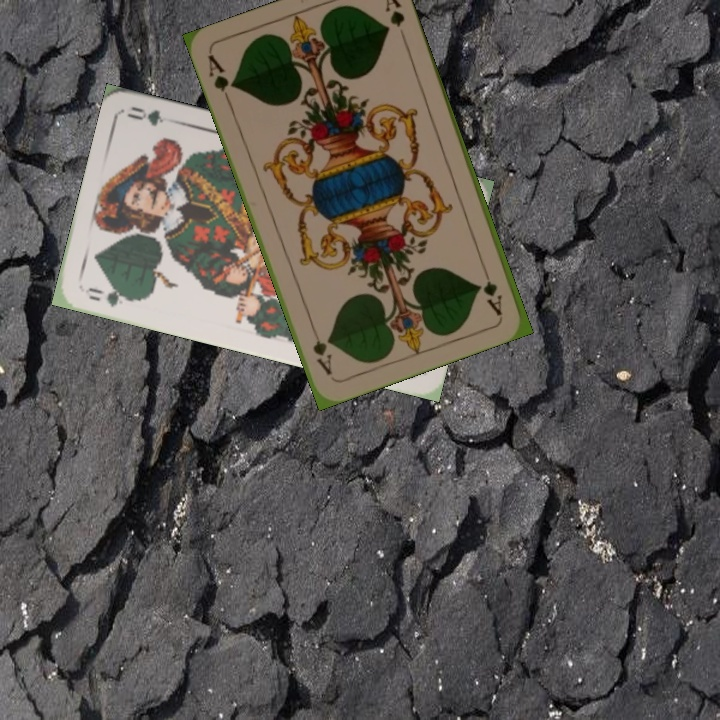GA: (204, 50, 238, 107), (477, 260, 505, 318)
GO: (84, 283, 139, 310)
